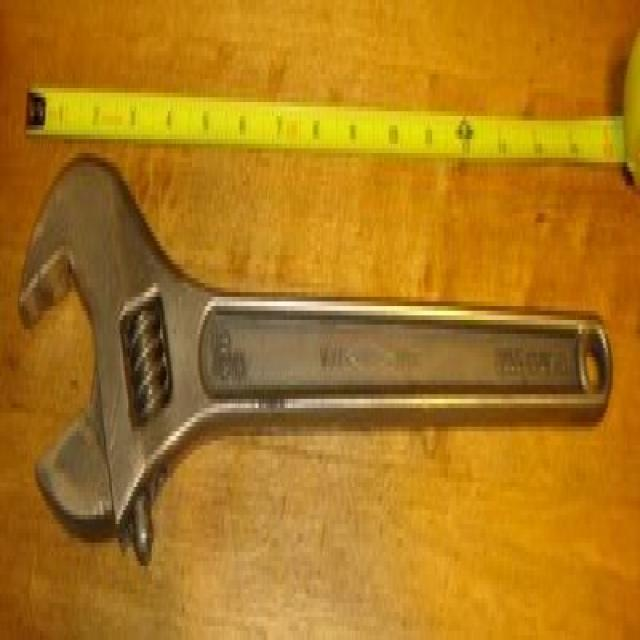wrench: (11, 136, 618, 582)
